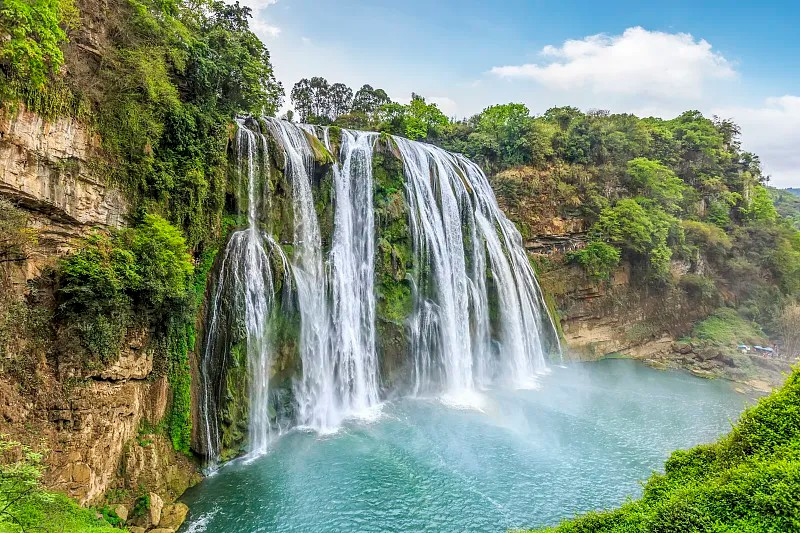Huangguoshu: (210, 115, 561, 461)
